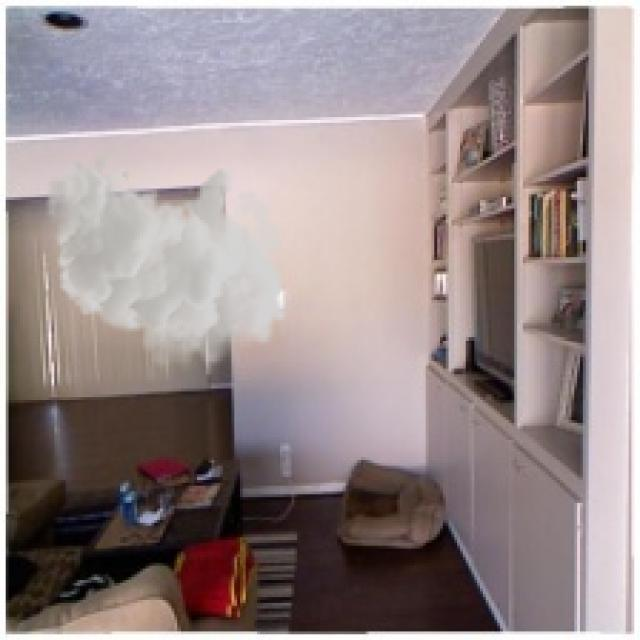Smoke: (45, 154, 288, 374)
